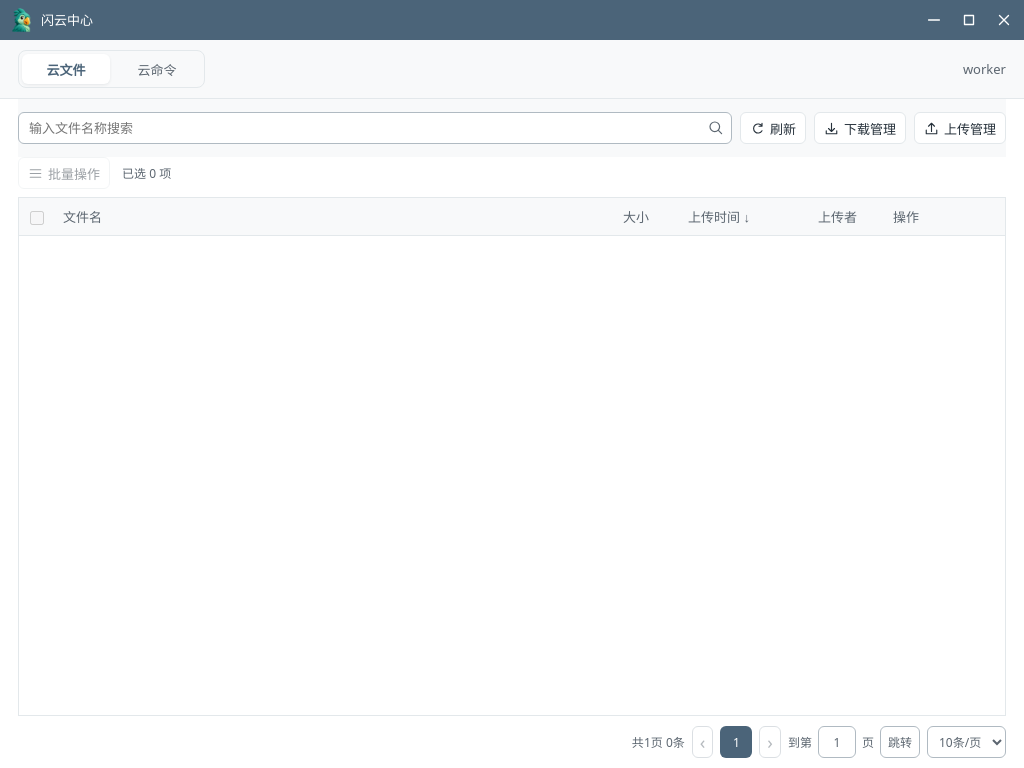
Test: 使用者直接阅读原样正文，复制只传所见修订号，不显示维护操作
Click the tab "云命令": click(157, 69) [113,54,201,84]
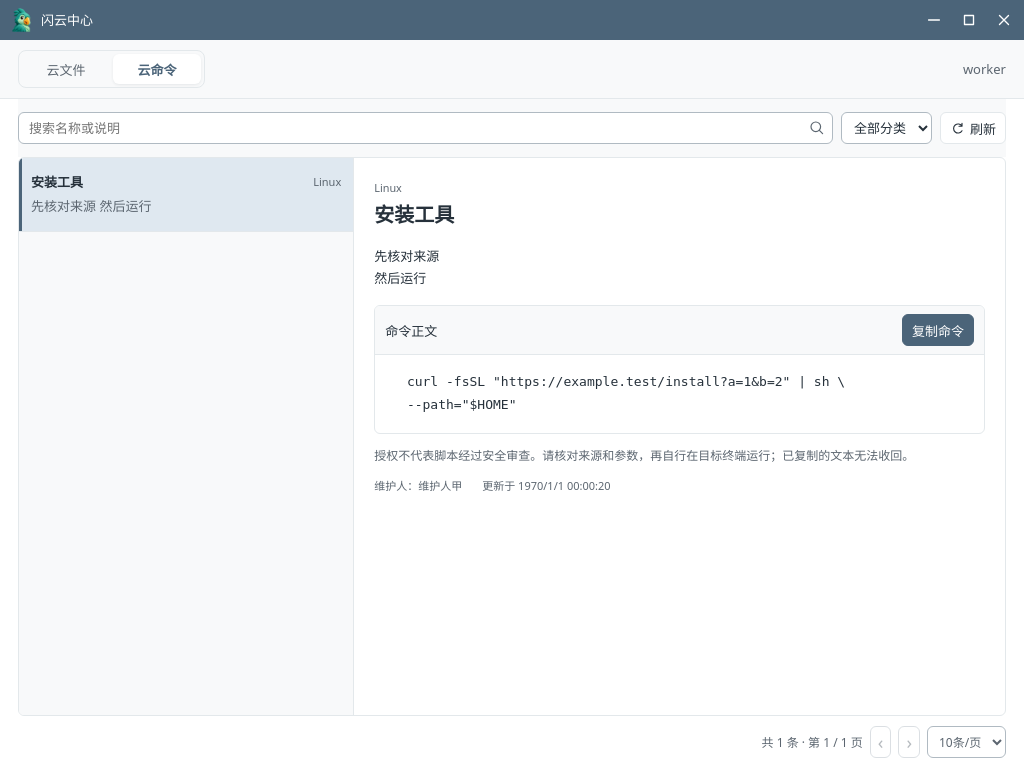
Result: the button "安装工具 Linux 先核对来源 然后运行" is shown at [19,158,353,232]
Result: the button "复制命令" is shown
Result: the text "维护人：维护人甲 更新于 1970/1/1 00:00:20" is shown at [374,478,610,493]
Click the button "复制命令": click(938, 330) [902,314,974,346]
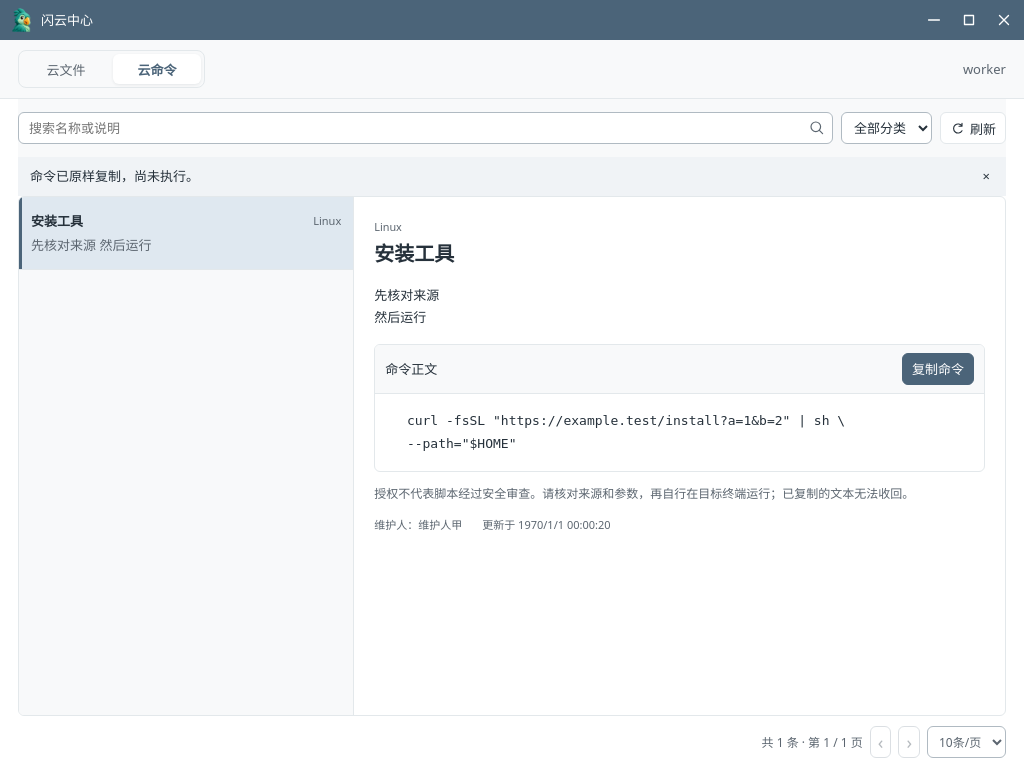
Result: the text "命令已原样复制，尚未执行。" is shown at [30,167,199,185]
